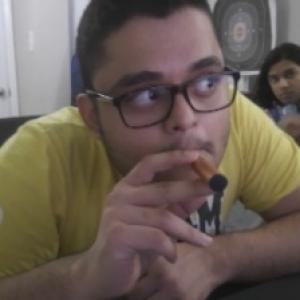Golden-E-Ciggirate: (192, 154, 228, 195)
